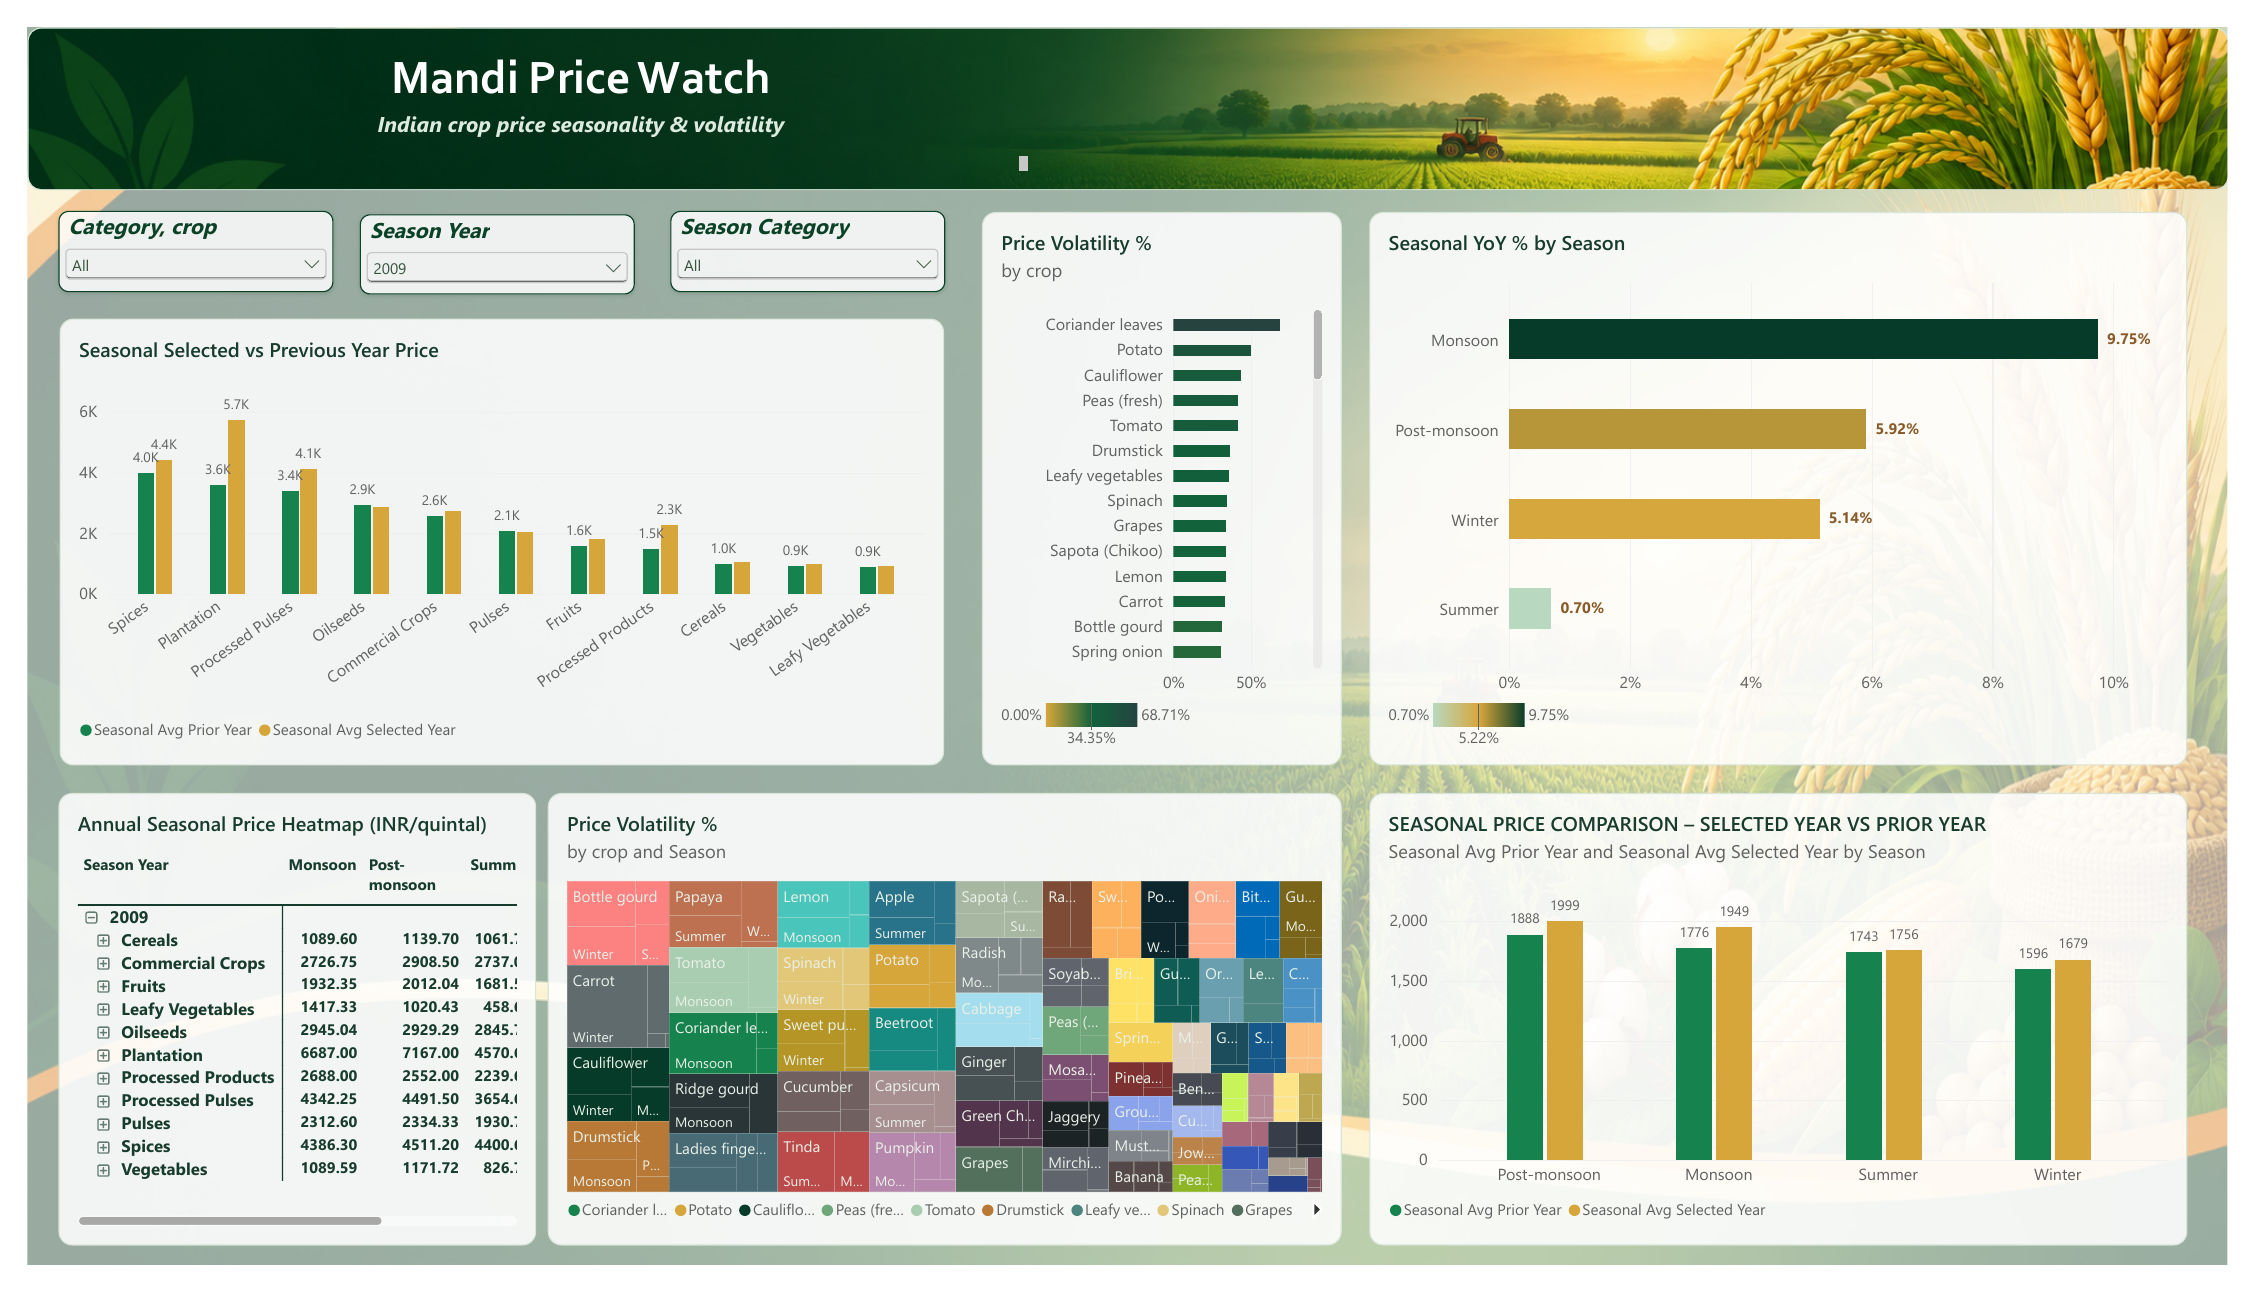

This screenshot's page, from the dashboard's own definition file:
{"tool":"powerbi","page":{"name":"Seasonality and Volatility","canvas":[1920,1080],"ordinal":1},"visuals":[{"type":"clusteredColumnChart","title":"SEASONAL PRICE COMPARISON – SELECTED YEAR VS PRIOR YEAR","fields":{"Category":["mandi-india-monthly.Season"],"Y":["mandi-india-monthly.Seasonal Avg Prior Year","mandi-india-monthly.Seasonal Avg Selected Year"]},"box":[1170.6,667.7,714.2,395.1],"z":0},{"type":"image","box":[0,0,1920.8,141.6],"z":1000},{"type":"columnChart","title":"YEAR-WISE CROP PRICE VOLATILITY","fields":{"Category":["mandi-india-monthly.Period.Variation.Date Hierarchy.Year"],"Y":["mandi.Price Volatility %"]},"box":[27.1,254.2,773.1,391.7],"z":3000},{"type":"textbox","title":"Mandi Price Watch","box":[93,19,779.7,105.7],"z":4000},{"type":"slicer","fields":{"Values":["mandi-india-monthly.Season Year"]},"box":[289.6,162.5,240,70],"z":7000},{"type":"slicer","fields":{"Values":["mandi-india-monthly.crop"]},"box":[27.1,160.4,240,70.4],"z":8000},{"type":"slicer","fields":{"Values":["mandi.Season Category"]},"box":[560.5,160.4,240,70.4],"z":9000},{"type":"clusteredBarChart","fields":{"Category":["mandi.Season"],"Y":["mandi.Seasonal YoY %"]},"box":[1170.6,160.6,714.2,483.9],"z":10000},{"type":"pivotTable","title":"Annual Seasonal Price Heatmap (INR/quintal)","fields":{"Columns":["mandi.Season"],"Rows":["mandi-india-monthly.month.Variation.Date Hierarchy.Year","mandi-india-monthly.crop"],"Values":["Avg(mandi-india-monthly.median_price_per_quintal_inr)"]},"box":[27.5,667.7,416.3,395.1],"z":11000},{"type":"treemap","fields":{"Details":["mandi.Season"],"Group":["mandi.crop"],"Values":["mandi.Price Volatility %"]},"box":[454.3,667.7,693.1,395.1],"z":12000},{"type":"textbox","box":[14.6,1054.4,835.6,25],"z":13000},{"type":"clusteredBarChart","fields":{"Category":["mandi.crop"],"Y":["mandi.Price Volatility %"]},"box":[832.5,160.6,314.8,483.9],"z":14000}]}

Visuals, with their boxes in screenshot pixels (x1, y1, x2, y2), scaled from the page's 1920x1080 canvas onto the 2255x1293 screenshot:
"SEASONAL PRICE COMPARISON – SELECTED YEAR VS PRIOR YEAR" clusteredColumnChart: select_region(1375, 799, 2214, 1272)
image: select_region(0, 0, 2254, 170)
"YEAR-WISE CROP PRICE VOLATILITY" columnChart: select_region(32, 304, 940, 773)
"Mandi Price Watch" textbox: select_region(109, 23, 1025, 149)
slicer - mandi-india-monthly.Season Year: select_region(340, 195, 622, 278)
slicer - mandi-india-monthly.crop: select_region(32, 192, 314, 276)
slicer - mandi.Season Category: select_region(658, 192, 940, 276)
clusteredBarChart - mandi.Season x mandi.Seasonal YoY %: select_region(1375, 192, 2214, 772)
"Annual Seasonal Price Heatmap (INR/quintal)" pivotTable: select_region(32, 799, 521, 1272)
treemap - mandi.Season x mandi.crop: select_region(534, 799, 1348, 1272)
textbox: select_region(17, 1262, 999, 1292)
clusteredBarChart - mandi.crop x mandi.Price Volatility %: select_region(978, 192, 1347, 772)
